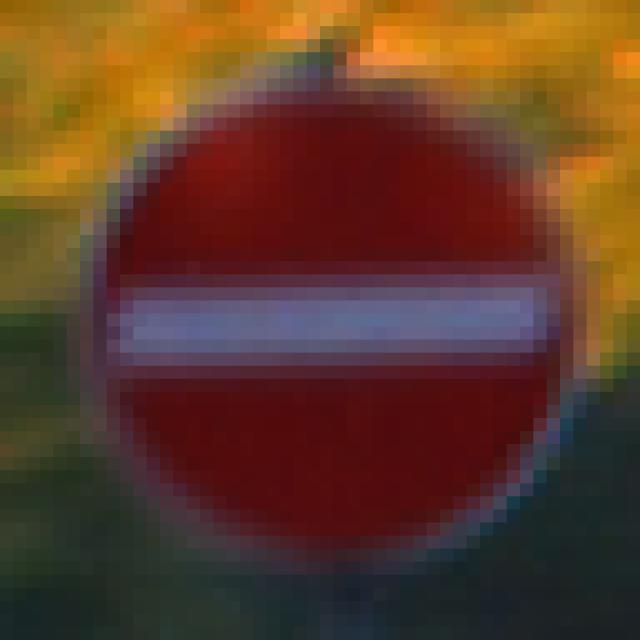No Entry: (81, 66, 574, 576)
